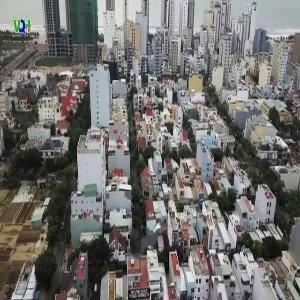drone: (107, 194, 203, 290)
